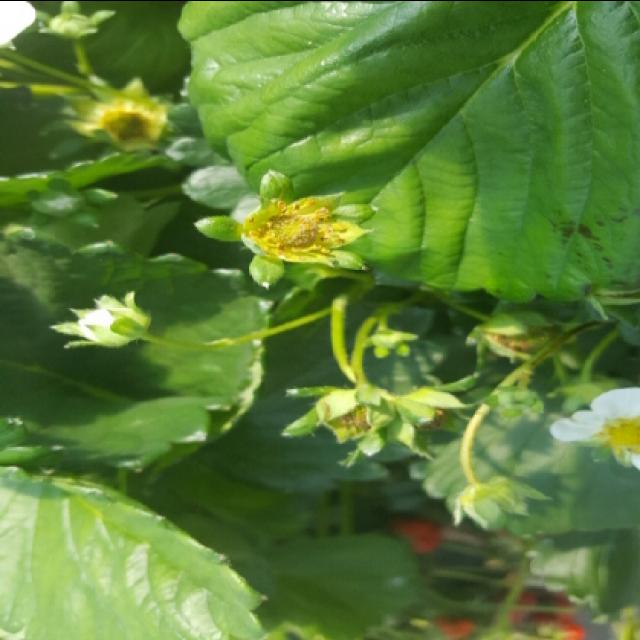Blossom Blight: (240, 193, 351, 263)
